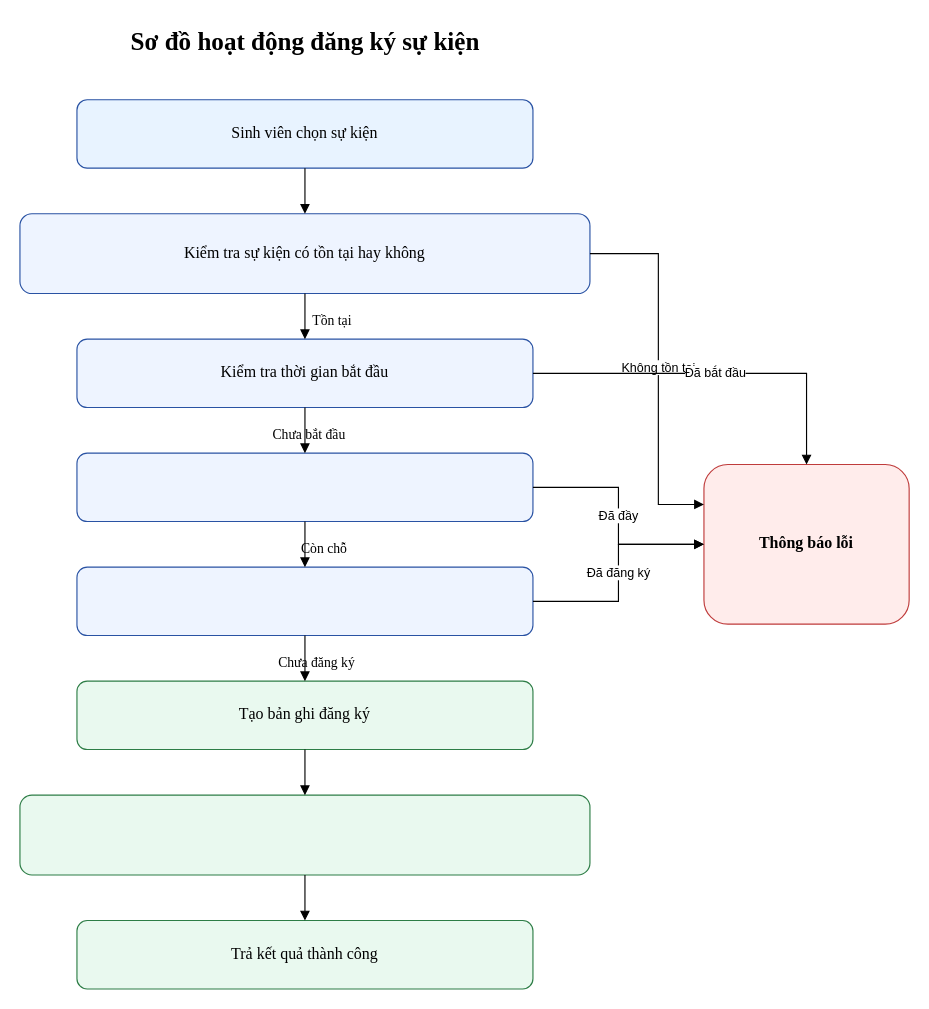
Image size: 929x1009. Some labels were removed from this diagram. The shapes that lost their labels are listed below. From the top down, each one's centre as x and y in pixels, then its label:
the point at 304,487: Kiểm tra số lượng tối đa
the point at 304,601: Kiểm tra đăng ký trùng
the point at 304,834: Tăng số lượng hiện tại của sự kiện
